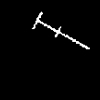double_crochet: (32, 12, 89, 48)
